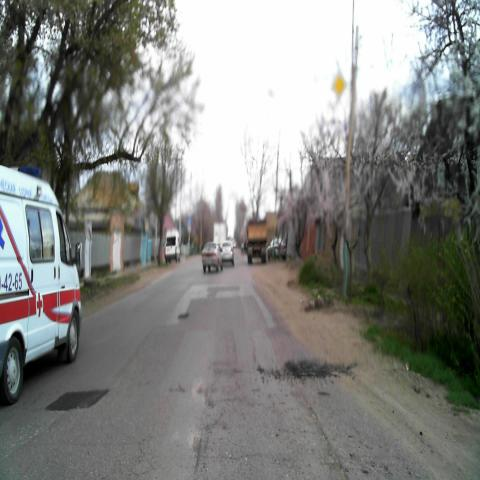2_1: (330, 70, 346, 102)
